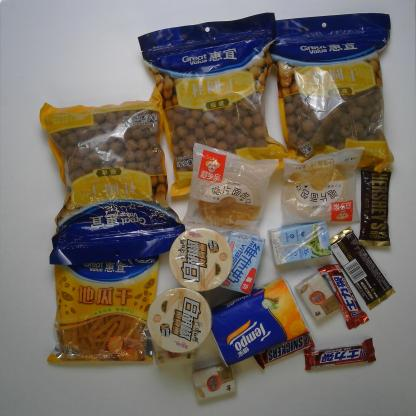Chocolate: (324, 224, 398, 314), (316, 259, 372, 333), (356, 162, 395, 252), (300, 336, 382, 374), (251, 326, 318, 372)
Dessert: (179, 140, 282, 246), (275, 143, 369, 232)
Dried Food: (132, 9, 313, 203), (31, 84, 192, 268), (249, 9, 403, 183)
Dried Fruit: (44, 242, 162, 368)
Instant Noodles: (144, 286, 214, 356), (166, 225, 236, 293)
Milk: (265, 219, 336, 270), (216, 228, 267, 297)
Tissue: (208, 274, 312, 370), (291, 268, 343, 324), (187, 361, 240, 406), (150, 337, 204, 369)
